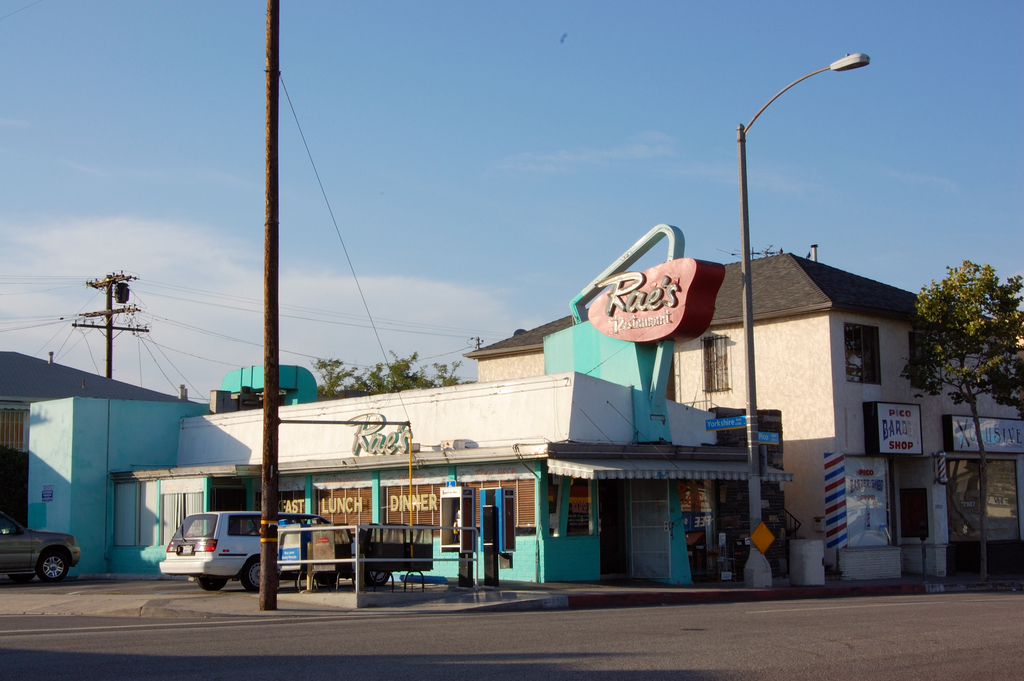Car: (158, 507, 389, 598), (4, 524, 82, 593)
